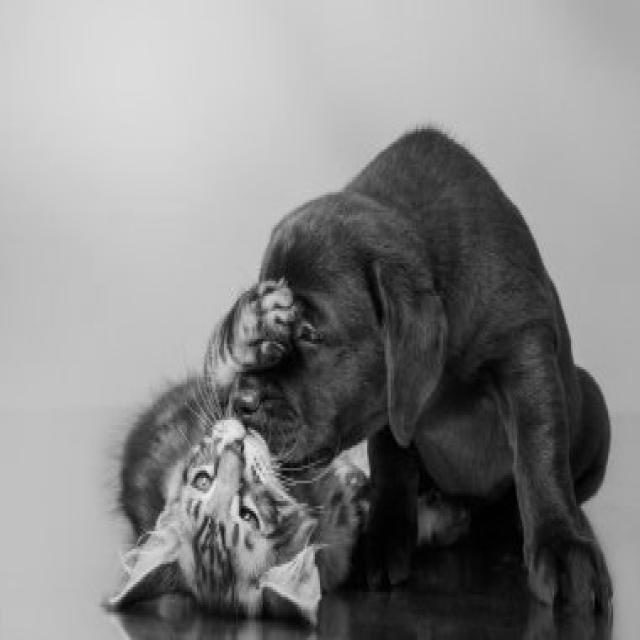Animal: (229, 130, 610, 609), (110, 380, 368, 624)
